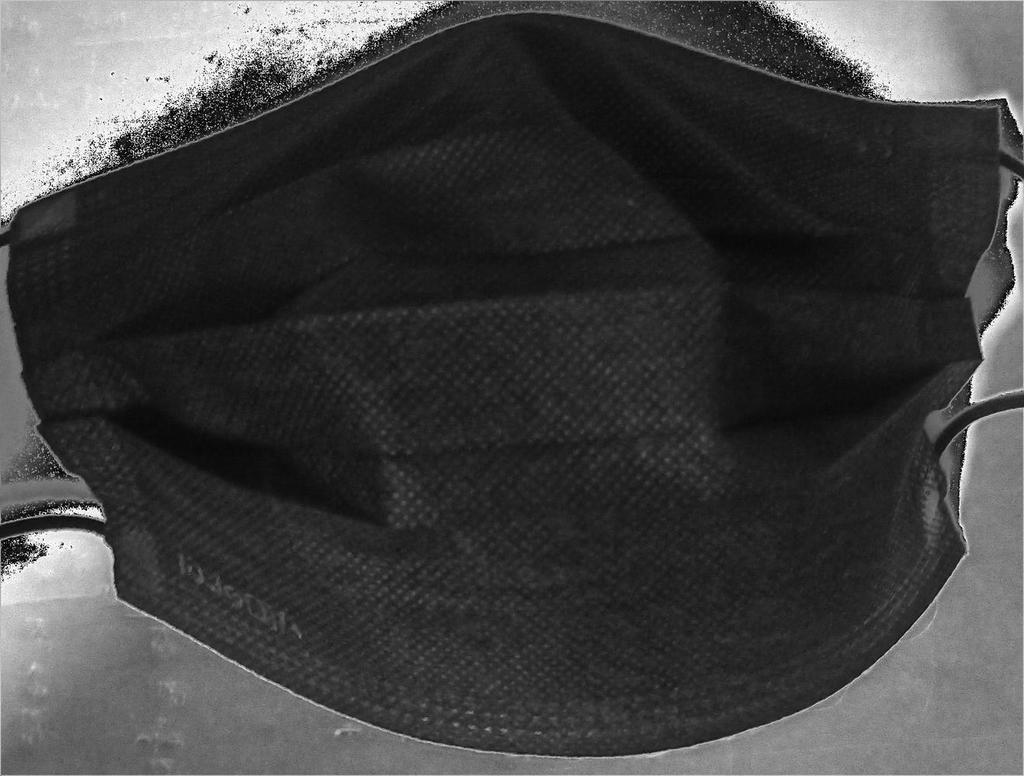Low GSM: (19, 6, 1006, 710)
